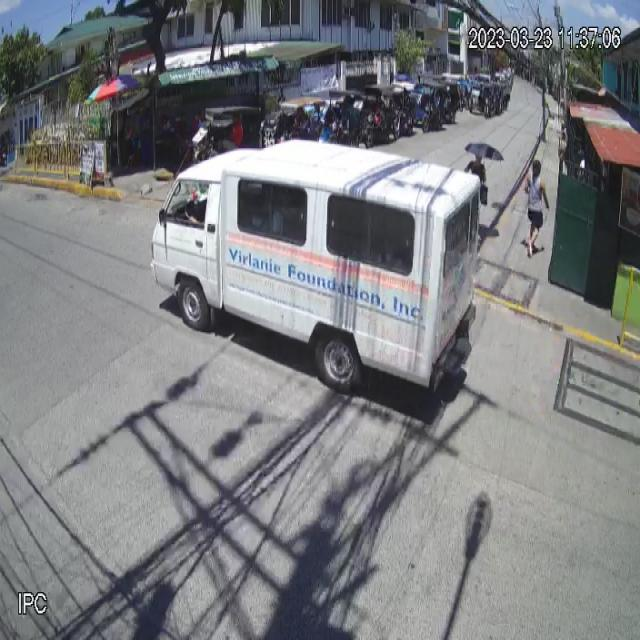Van: (151, 134, 480, 399)
